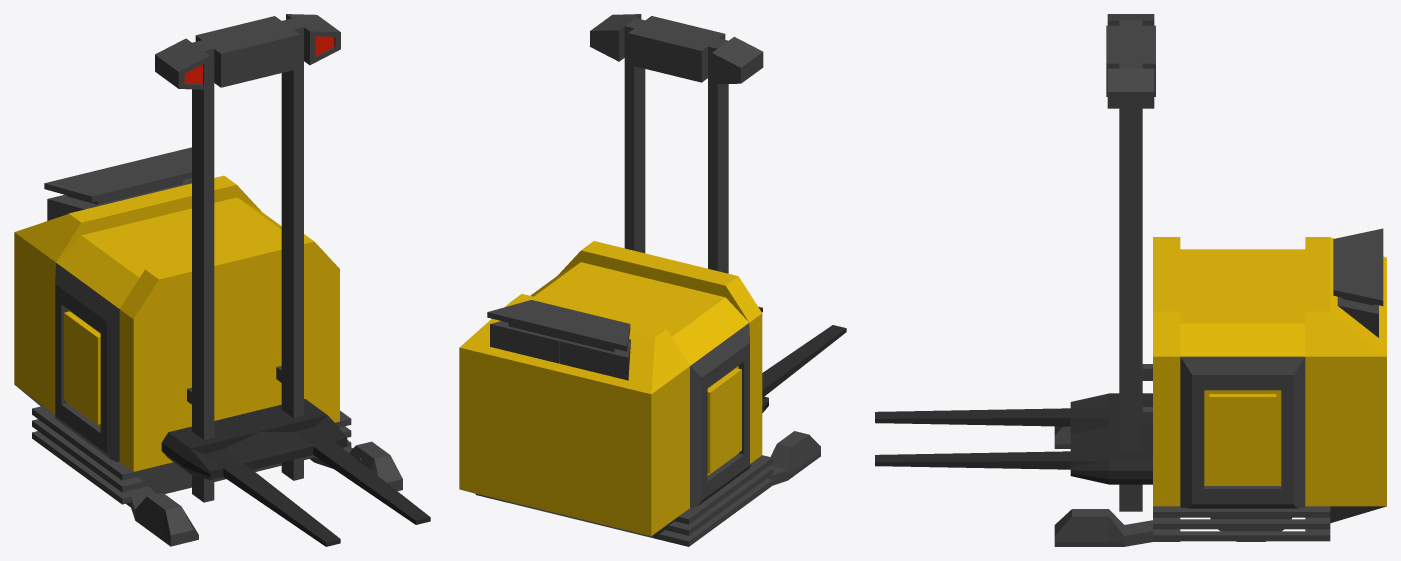
Rendered from autoforklift1.fbx.
The picture shows the model from 3 angles, left to right: view 1: azimuth 30°, elevation 25°; view 2: azimuth 150°, elevation 25°; view 3: azimuth 270°, elevation 25°; orthographic projection. The views are drawn at different scales.
Parts seen in each view (by area): view 1: Cube, Cube.001; view 2: Cube, Cube.001; view 3: Cube, Cube.001.
Part boxes in pixels (x1,y1,x2,y2): Cube: (14,14,402,546); Cube.001: (161,399,430,546); Cube: (459,14,820,546); Cube.001: (758,306,846,412); Cube: (1054,14,1386,546); Cube.001: (875,393,1152,484).
Bounding box in the file's own units: 112 × 212 × 219.
